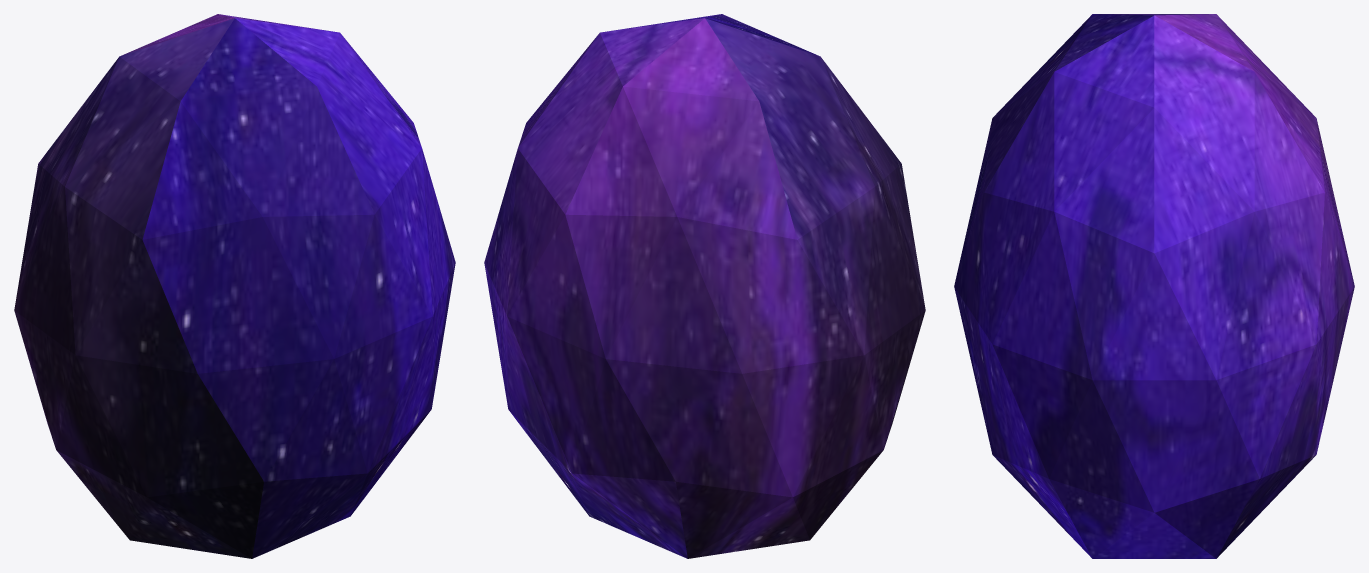
The model's file is planet_animation.glb.
3 views of the same model, side by side, from view 1: azimuth 30°, elevation 25°; view 2: azimuth 150°, elevation 25°; view 3: azimuth 270°, elevation 25° (orthographic).
Visible parts, largest first — view 1: Icosphere; view 2: Icosphere; view 3: Icosphere.
Boxes of the visible parts, box(x1,y1,x2,y2) form: Icosphere: box(14, 14, 455, 558); Icosphere: box(484, 14, 925, 558); Icosphere: box(954, 14, 1354, 558).
Size of the model in its own units: 2.58 by 3.48 by 2.33.
1 material, 1 textured.
